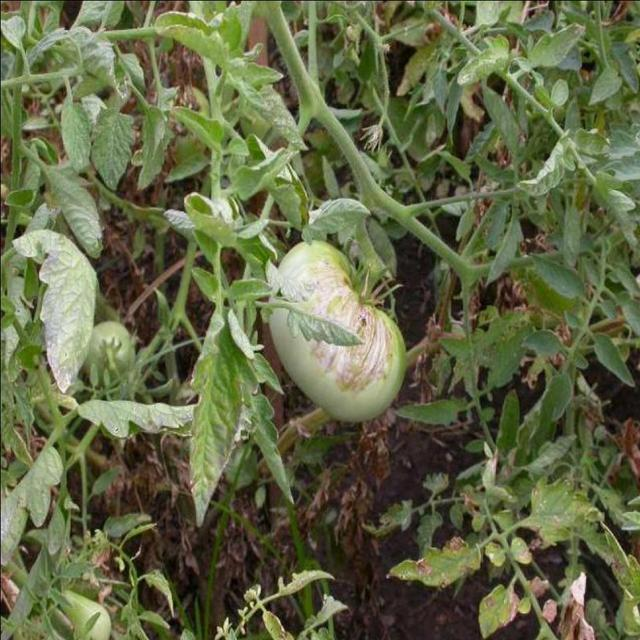Sunscald Fruit: (184, 167, 261, 265)
